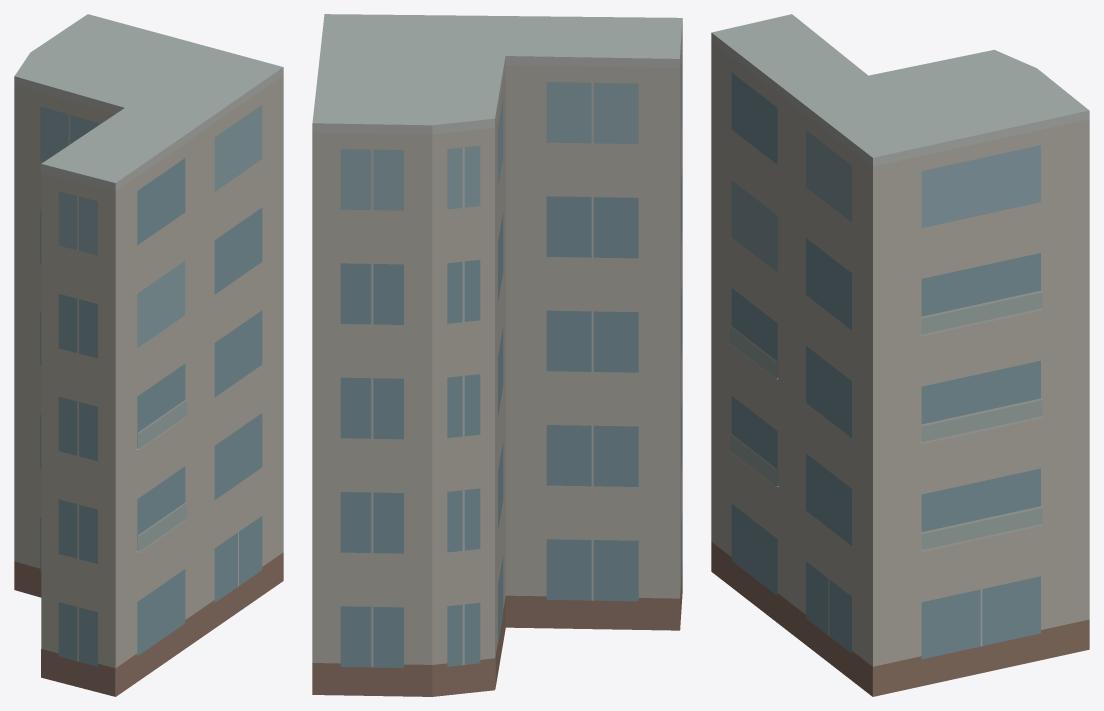
File: survey-upis-32497231.glb
The picture shows the model from 3 angles, left to right: view 1: azimuth 30°, elevation 25°; view 2: azimuth 150°, elevation 25°; view 3: azimuth 270°, elevation 25°; orthographic projection. The views are drawn at different scales.
Parts seen in each view (by area): view 1: survey-upis-32497231.tmp; view 2: survey-upis-32497231.tmp; view 3: survey-upis-32497231.tmp.
Part boxes in pixels (x1=…): survey-upis-32497231.tmp: x1=14, y1=14, x2=283, y2=696; survey-upis-32497231.tmp: x1=312, y1=14, x2=682, y2=696; survey-upis-32497231.tmp: x1=711, y1=14, x2=1089, y2=696.
Size of the model in its own units: 8.71 by 15.2 by 9.68.
